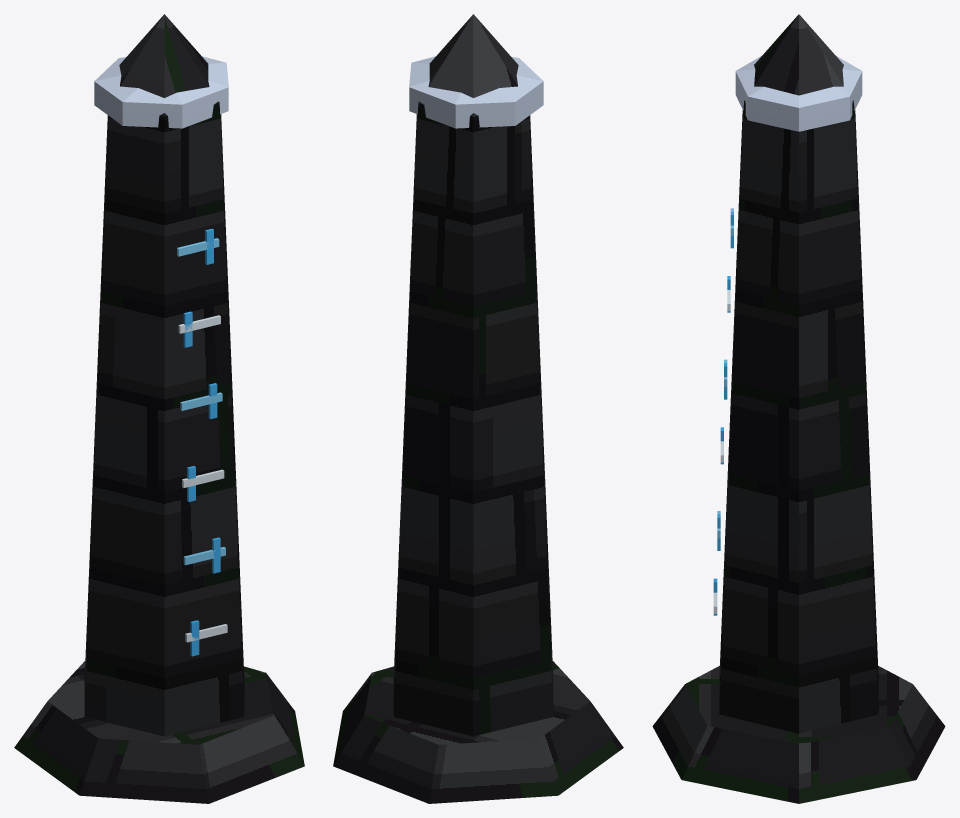
File: rune_standing_stone.glb
The picture shows the model from 3 angles, left to right: view 1: azimuth 30°, elevation 25°; view 2: azimuth 150°, elevation 25°; view 3: azimuth 270°, elevation 25°; orthographic projection.
Parts seen in each view (by area): view 1: rune_standing_stone; view 2: rune_standing_stone; view 3: rune_standing_stone.
Boxes of the visible parts, box(x1,y1,x2,y2) form: rune_standing_stone: box(14, 14, 304, 803); rune_standing_stone: box(333, 14, 623, 803); rune_standing_stone: box(652, 14, 945, 803).
Size of the model in its own units: 1.71 by 4.8 by 1.75.
Materials: 3 (1 with a texture image).
